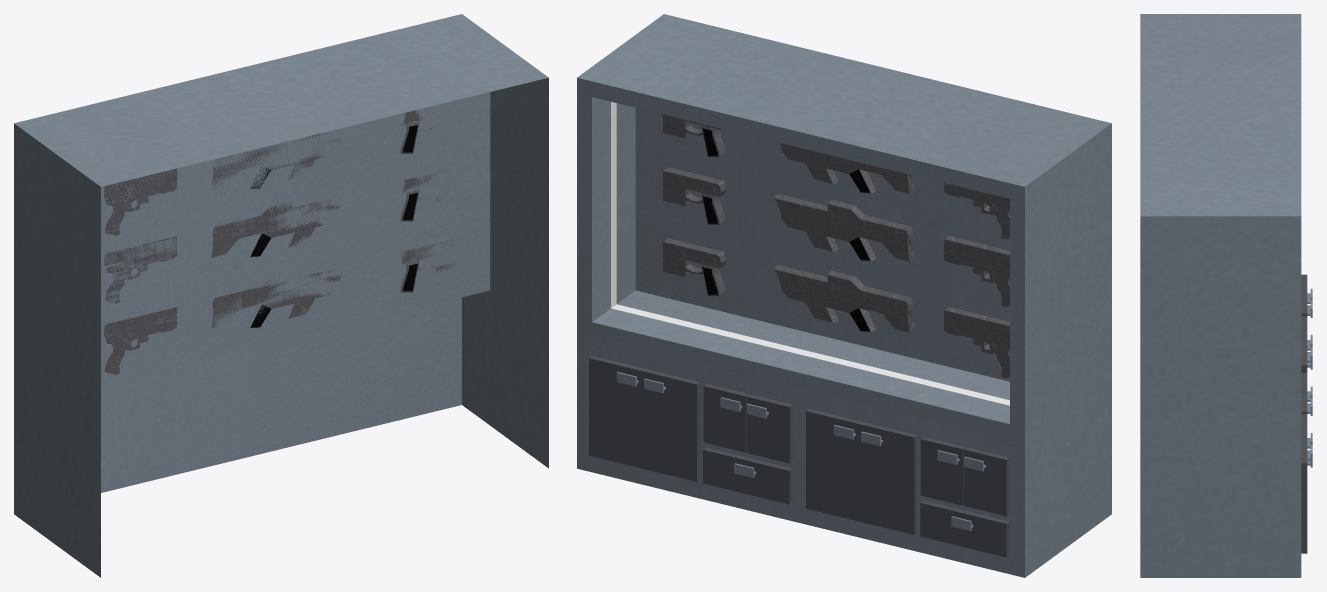
File: armoury.fbx
3 renders of one model, left to right at view 1: azimuth 30°, elevation 25°; view 2: azimuth 150°, elevation 25°; view 3: azimuth 270°, elevation 25°, orthographic. The views are drawn at different scales.
Parts seen in each view (by area): view 1: armoury; view 2: armoury; view 3: armoury.
Part boxes in pixels (x1,y1,x2,y2): armoury: (14,14,548,577); armoury: (577,14,1111,577); armoury: (1140,14,1312,577).
Size of the model in its own units: 297 by 248 by 107.
1 material, 1 textured.
